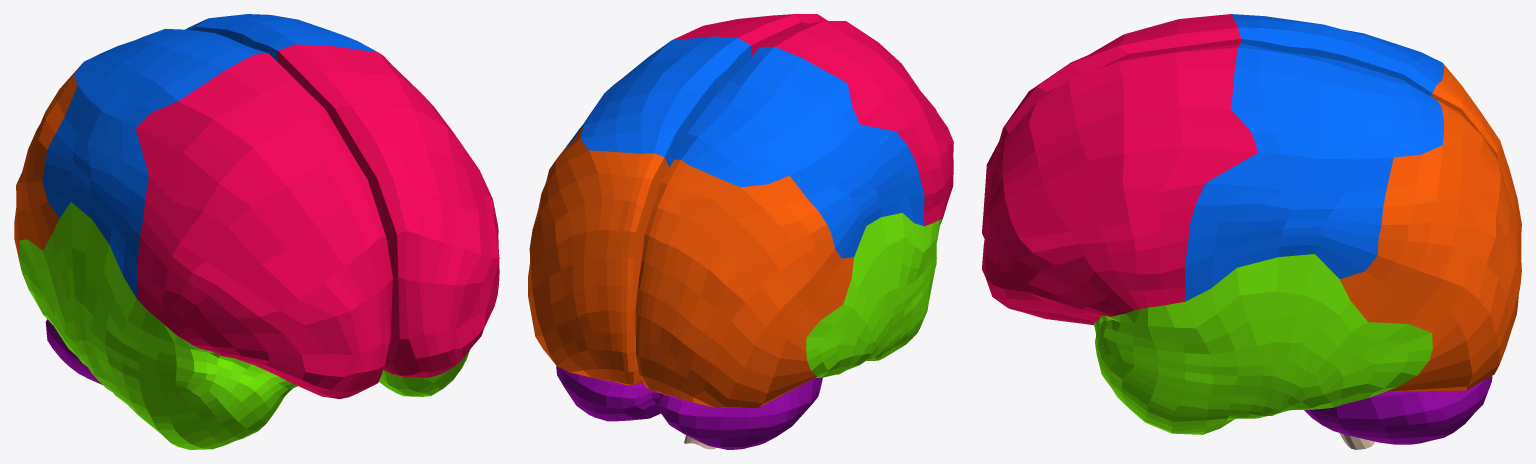
File: mozog_27_8.fbx
3 views of the same model, side by side, from view 1: azimuth 30°, elevation 25°; view 2: azimuth 150°, elevation 25°; view 3: azimuth 270°, elevation 25° (orthographic). The views are drawn at different scales.
Parts seen in each view (by area): view 1: F, T, P, O, C; view 2: O, P, F, T, C; view 3: F, P, T, O, C.
Boxes of the visible parts, x1,y1,x2,y2 form: F: (136,44,499,398); T: (19,202,469,449); P: (42,14,377,297); O: (14,28,187,283); C: (45,319,102,384); O: (528,126,853,407); P: (565,36,924,258); F: (672,14,953,226); T: (806,212,942,377); C: (556,366,822,449); F: (982,14,1258,324); P: (1185,14,1443,301); T: (1093,254,1432,434); O: (1340,63,1521,391); C: (1304,376,1492,444).
Size of the model in its own units: 344 by 396 by 477.
